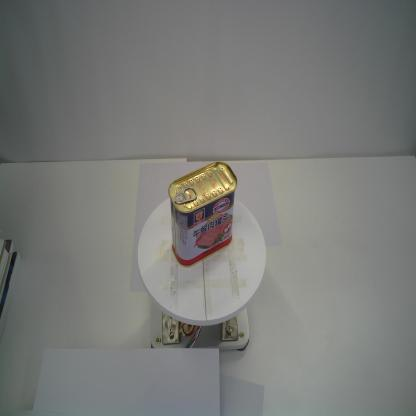Canned Food: (166, 157, 238, 271)
